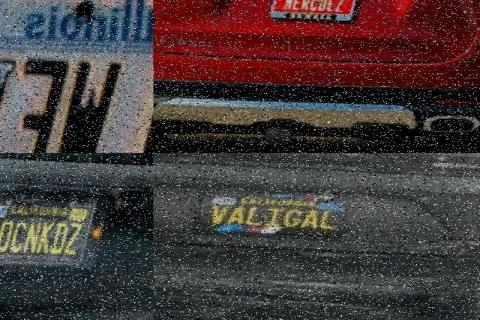LicensePlate: (0, 41, 154, 153), (196, 190, 361, 237), (0, 195, 100, 266), (272, 0, 360, 20)
